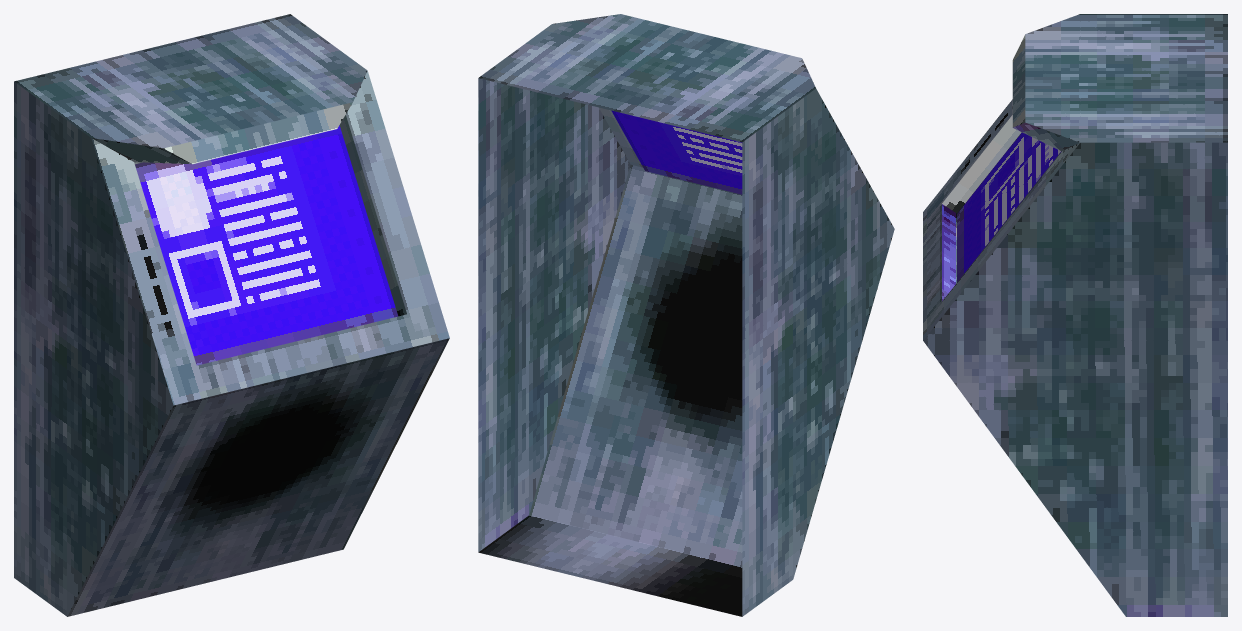
The model's file is WallComputer.glb.
The picture shows the model from 3 angles, left to right: view 1: azimuth 30°, elevation 25°; view 2: azimuth 150°, elevation 25°; view 3: azimuth 270°, elevation 25°; orthographic projection. The views are drawn at different scales.
Visible parts, largest first — view 1: Cube; view 2: Cube; view 3: Cube.
Boxes of the visible parts, x1,y1,x2,y2 form: Cube: [14, 14, 449, 616]; Cube: [478, 14, 894, 616]; Cube: [923, 14, 1227, 616].
Bounding box in the file's own units: 2 × 3.43 × 2.
Materials: 1 (1 with a texture image).
